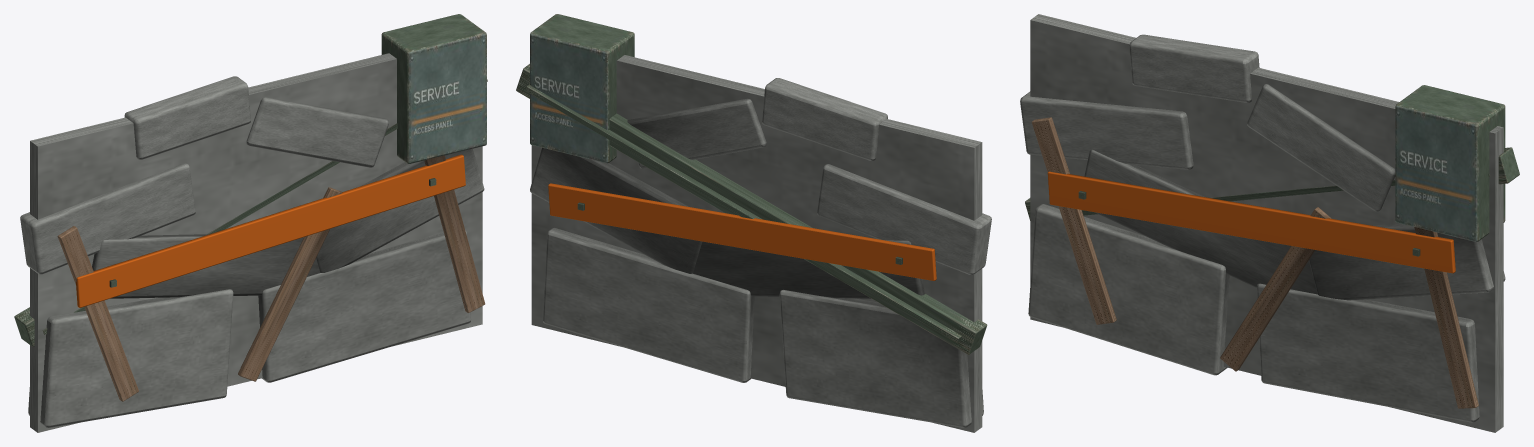
File: debris_pile.glb
3 renders of one model, left to right at view 1: azimuth 30°, elevation 25°; view 2: azimuth 150°, elevation 25°; view 3: azimuth 330°, elevation 25°, orthographic. The views are drawn at different scales.
Visible parts, largest first — view 1: DebrisPile; view 2: DebrisPile; view 3: DebrisPile.
Part boxes in pixels (x1,y1,x2,y2): DebrisPile: (14, 14, 487, 432); DebrisPile: (516, 14, 991, 432); DebrisPile: (1020, 14, 1519, 432).
Size of the model in its own units: 4.06 by 2.58 by 0.53.
2 materials, 1 textured.
